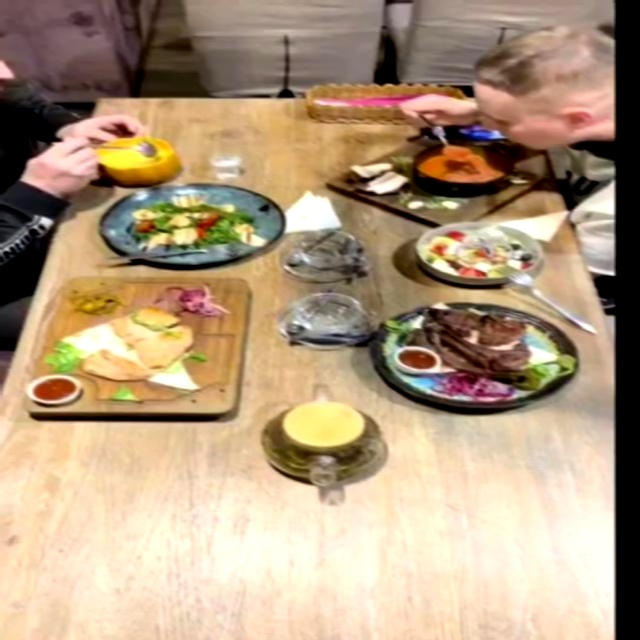meat: (22, 271, 255, 419), (366, 300, 578, 408)
salad: (96, 182, 281, 266), (413, 220, 545, 285)
soup: (324, 134, 555, 226), (94, 135, 179, 184)
tea: (244, 379, 407, 516)
